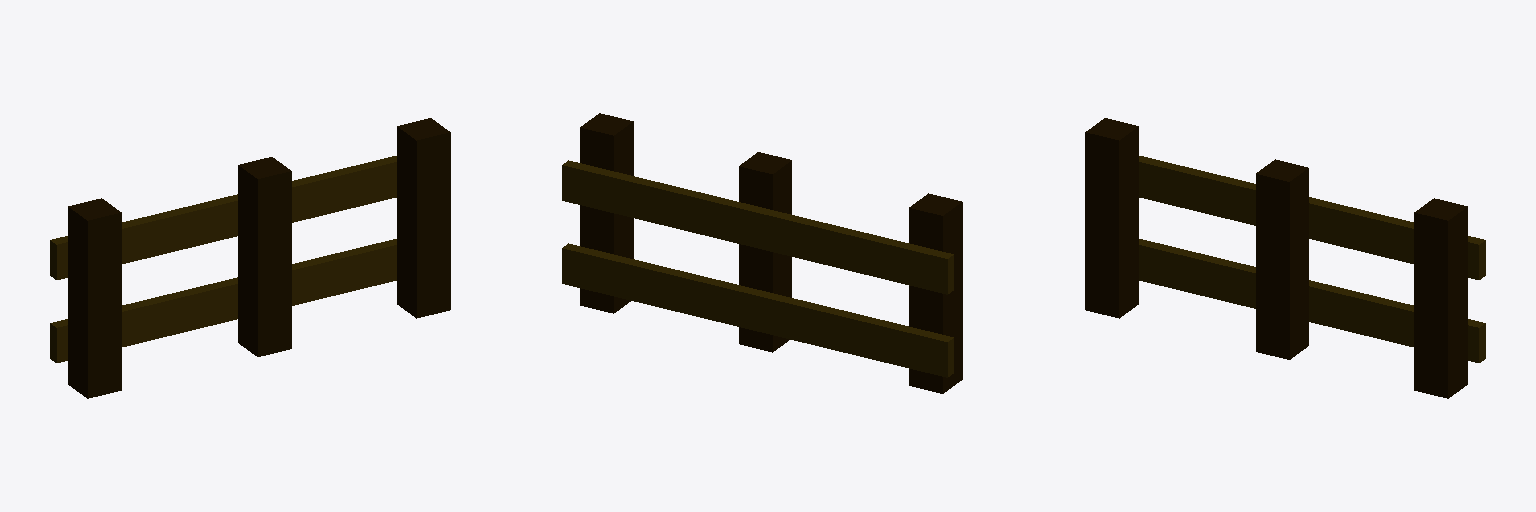
The picture shows the model from 3 angles: view 1: azimuth 30°, elevation 25°; view 2: azimuth 150°, elevation 25°; view 3: azimuth 330°, elevation 25°; orthographic projection.
Parts seen in each view (by area): view 1: object 1; view 2: object 1; view 3: object 1.
Boxes of the visible parts, x1=… form: object 1: x1=50, y1=118, x2=450, y2=398; object 1: x1=562, y1=113, x2=962, y2=393; object 1: x1=1085, y1=118, x2=1485, y2=398.
Size of the model in its own units: 3.4 by 1.5 by 0.4.
Materials: 1 (1 with a texture image).